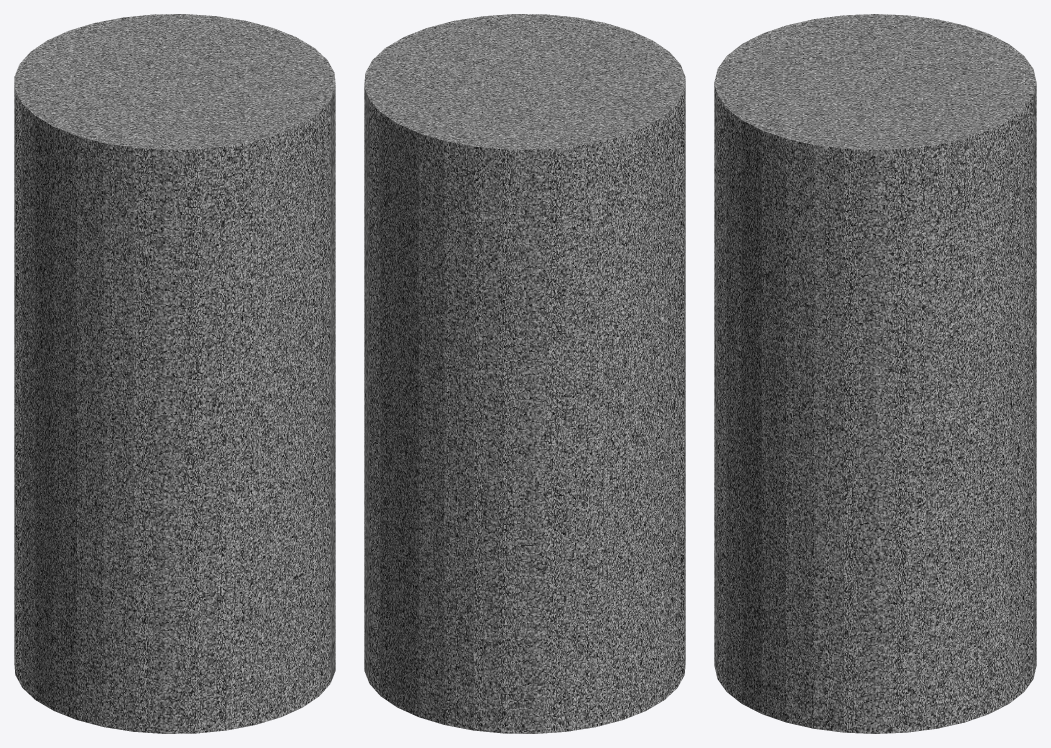
3 renders of one model, left to right at view 1: azimuth 30°, elevation 25°; view 2: azimuth 150°, elevation 25°; view 3: azimuth 270°, elevation 25°, orthographic.
Visible parts, largest first — view 1: 柱体; view 2: 柱体; view 3: 柱体.
Part boxes in pixels (<box>): 柱体: <box>14,14,335,733</box>; 柱体: <box>364,14,685,733</box>; 柱体: <box>714,14,1036,733</box>.
Bounding box in the file's own units: 0.5 × 0.5 × 1.
